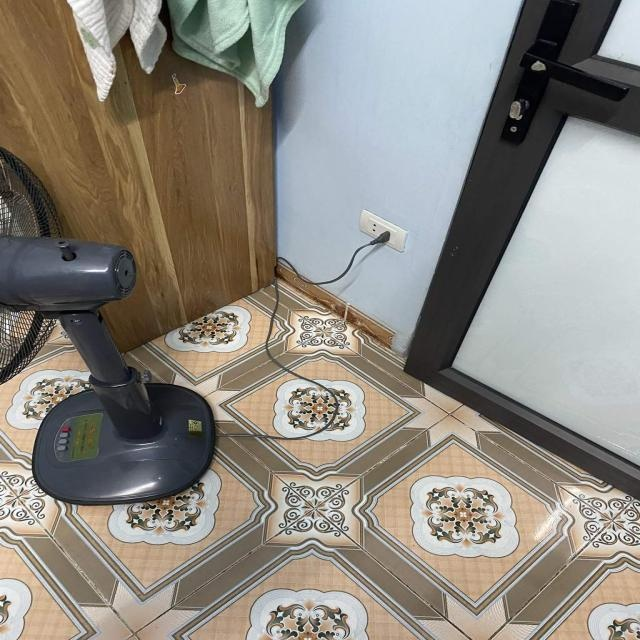outlet: (358, 209, 408, 252)
